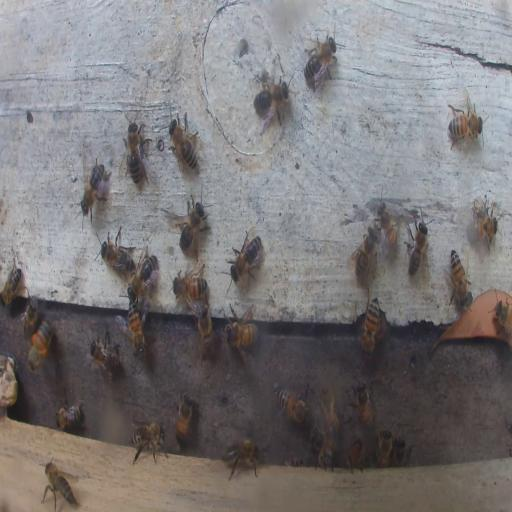nonpollenbee: (252, 71, 294, 129), (170, 193, 210, 253), (79, 156, 110, 224), (302, 36, 339, 92), (40, 454, 76, 510), (229, 226, 263, 285), (168, 110, 199, 174), (122, 116, 148, 186), (98, 226, 132, 277), (350, 224, 380, 281), (88, 329, 120, 382), (129, 421, 168, 464), (223, 436, 262, 479), (404, 211, 428, 278), (448, 249, 472, 308), (129, 250, 156, 301), (376, 196, 399, 253), (360, 296, 381, 356), (276, 389, 310, 425), (446, 110, 484, 141), (472, 200, 499, 243), (128, 301, 147, 362), (1, 261, 25, 308), (173, 270, 207, 303), (319, 386, 340, 438), (224, 316, 259, 347), (175, 392, 193, 446), (353, 380, 373, 428), (198, 302, 214, 362), (308, 426, 331, 462), (54, 404, 83, 431), (491, 301, 511, 340), (23, 296, 39, 337), (345, 437, 363, 473), (376, 428, 393, 466), (314, 437, 332, 469), (394, 437, 413, 465)
pollenbee: (26, 312, 53, 375)
